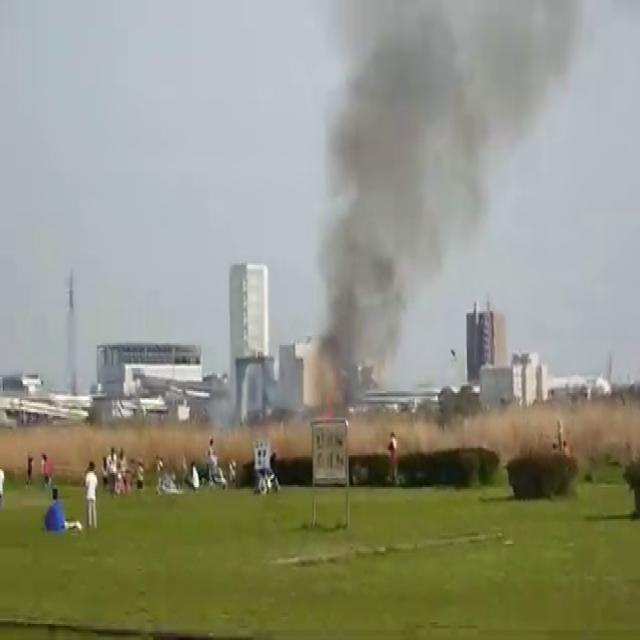Smoke: (293, 0, 564, 421)
